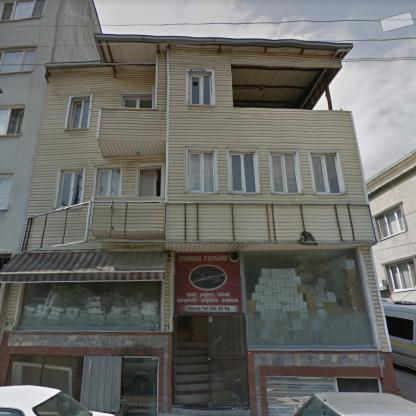door: (174, 314, 250, 406), (138, 166, 162, 196), (138, 86, 154, 108)
window: (244, 248, 372, 345), (17, 281, 160, 330), (6, 355, 82, 401), (121, 358, 157, 415), (309, 150, 346, 194), (268, 150, 302, 193), (227, 149, 260, 192), (186, 148, 217, 192), (58, 169, 82, 207), (0, 48, 35, 72), (1, 1, 44, 20), (389, 260, 415, 291), (378, 209, 405, 238), (189, 75, 211, 104), (68, 99, 89, 129), (98, 168, 119, 196), (1, 108, 23, 134), (0, 176, 12, 209), (124, 99, 137, 108)
